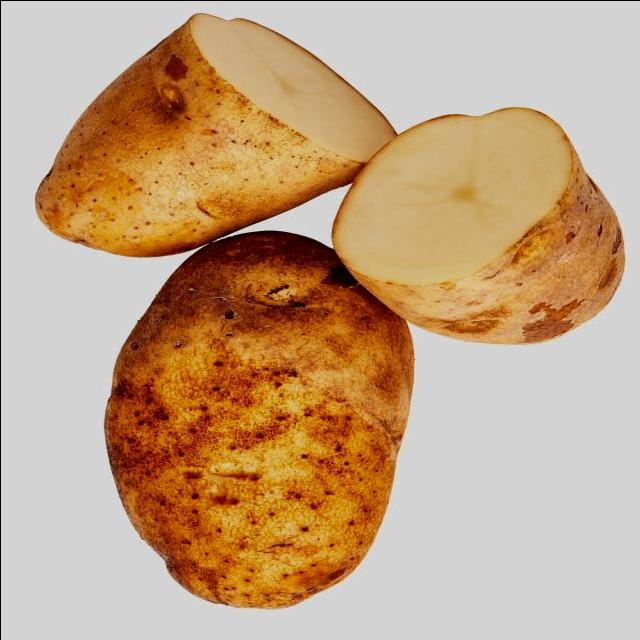potato: (104, 233, 406, 608), (34, 14, 394, 257), (327, 106, 624, 344)
